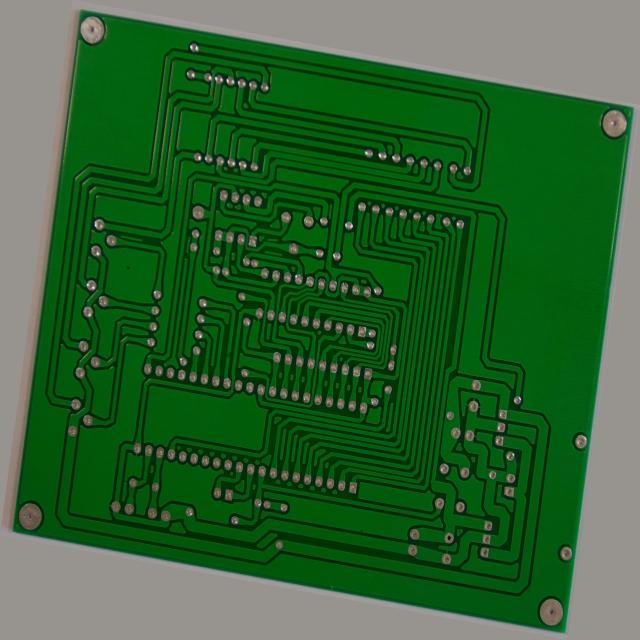spurious_copper: (85, 258, 115, 271), (310, 178, 321, 202), (247, 247, 270, 258), (159, 247, 169, 272), (247, 232, 264, 242)
